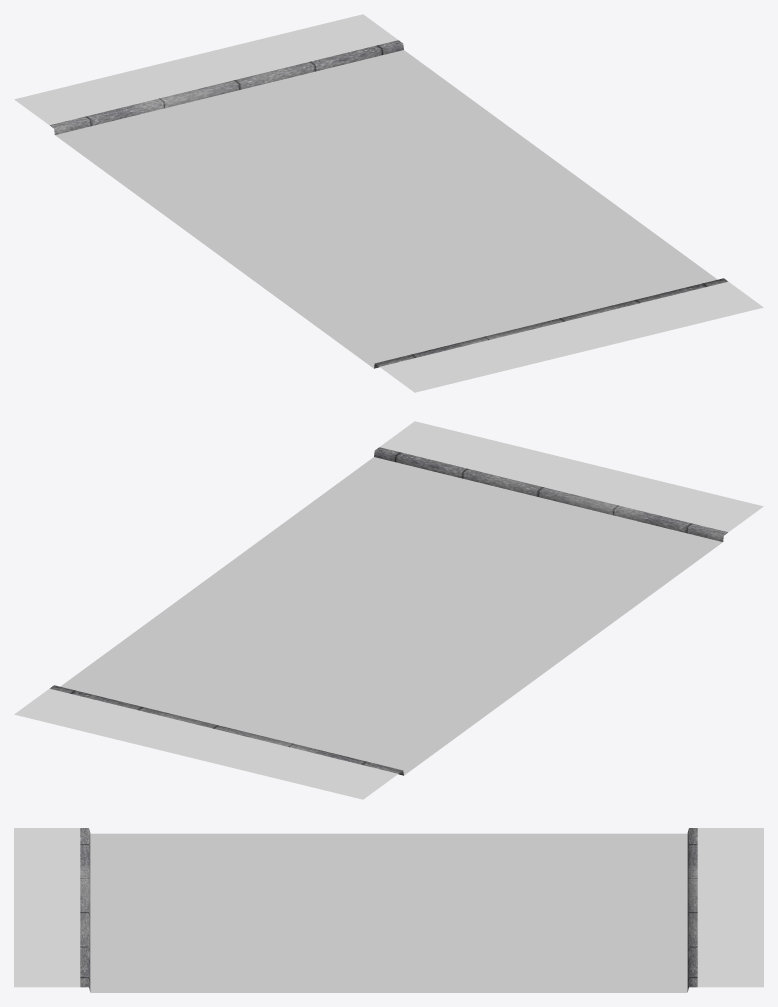
File: SM_Highway.fbx
The picture shows the model from 3 angles, top to bottom: view 1: azimuth 30°, elevation 25°; view 2: azimuth 150°, elevation 25°; view 3: azimuth 270°, elevation 25°; orthographic projection. The views are drawn at different scales.
Parts seen in each view (by area): view 1: Highway, Plane.004, Plane.003; view 2: Highway, Plane.004, Plane.003; view 3: Highway, Plane.004, Plane.003.
Part boxes in pixels (left/top/right/bottom): Highway: left=55, top=50, right=717, bottom=368; Plane.004: left=14, top=14, right=763, bottom=392; Plane.003: left=50, top=40, right=727, bottom=368; Highway: left=60, top=457, right=722, bottom=775; Plane.004: left=14, top=421, right=763, bottom=799; Plane.003: left=50, top=447, right=727, bottom=775; Highway: left=90, top=833, right=687, bottom=992; Plane.004: left=14, top=828, right=763, bottom=987; Plane.003: left=80, top=828, right=697, bottom=991.
Size of the model in its own units: 617 by 9.91 by 1226.
3 materials, 1 textured.
